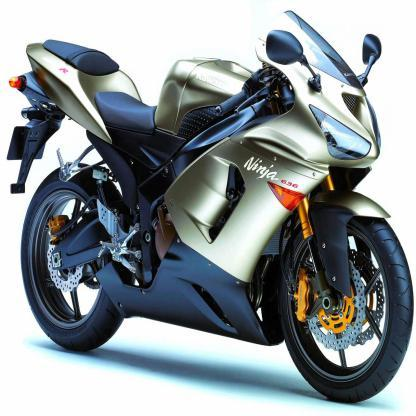Motorcycle: (6, 12, 416, 409)
